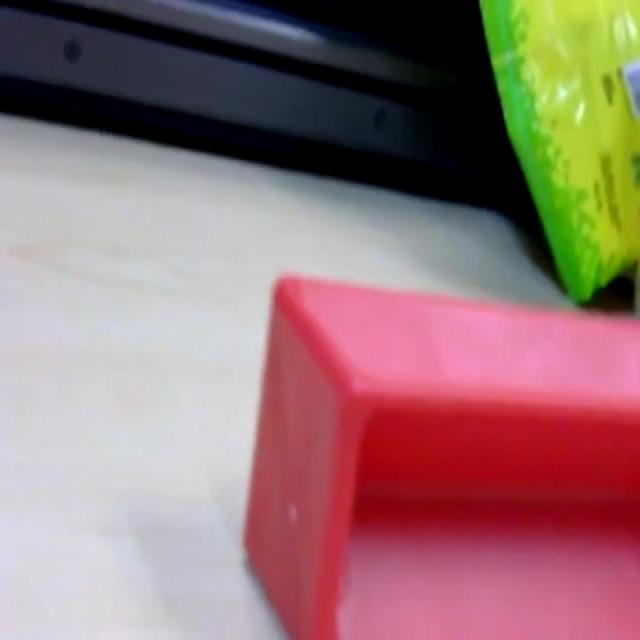red_block: (241, 268, 638, 636)
